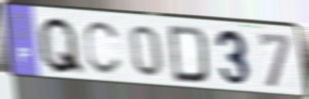0: (128, 24, 167, 80)
3: (214, 26, 255, 89)
7: (257, 30, 293, 91)
C: (82, 20, 123, 78)
D: (167, 24, 212, 87)
Q: (36, 15, 88, 78)
